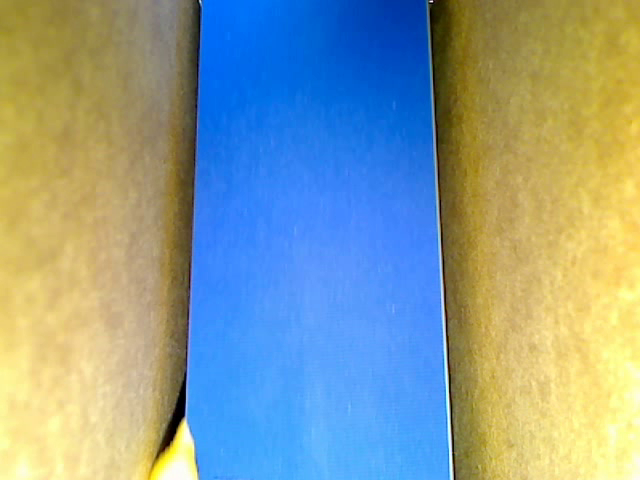shell: (148, 418, 199, 479)
